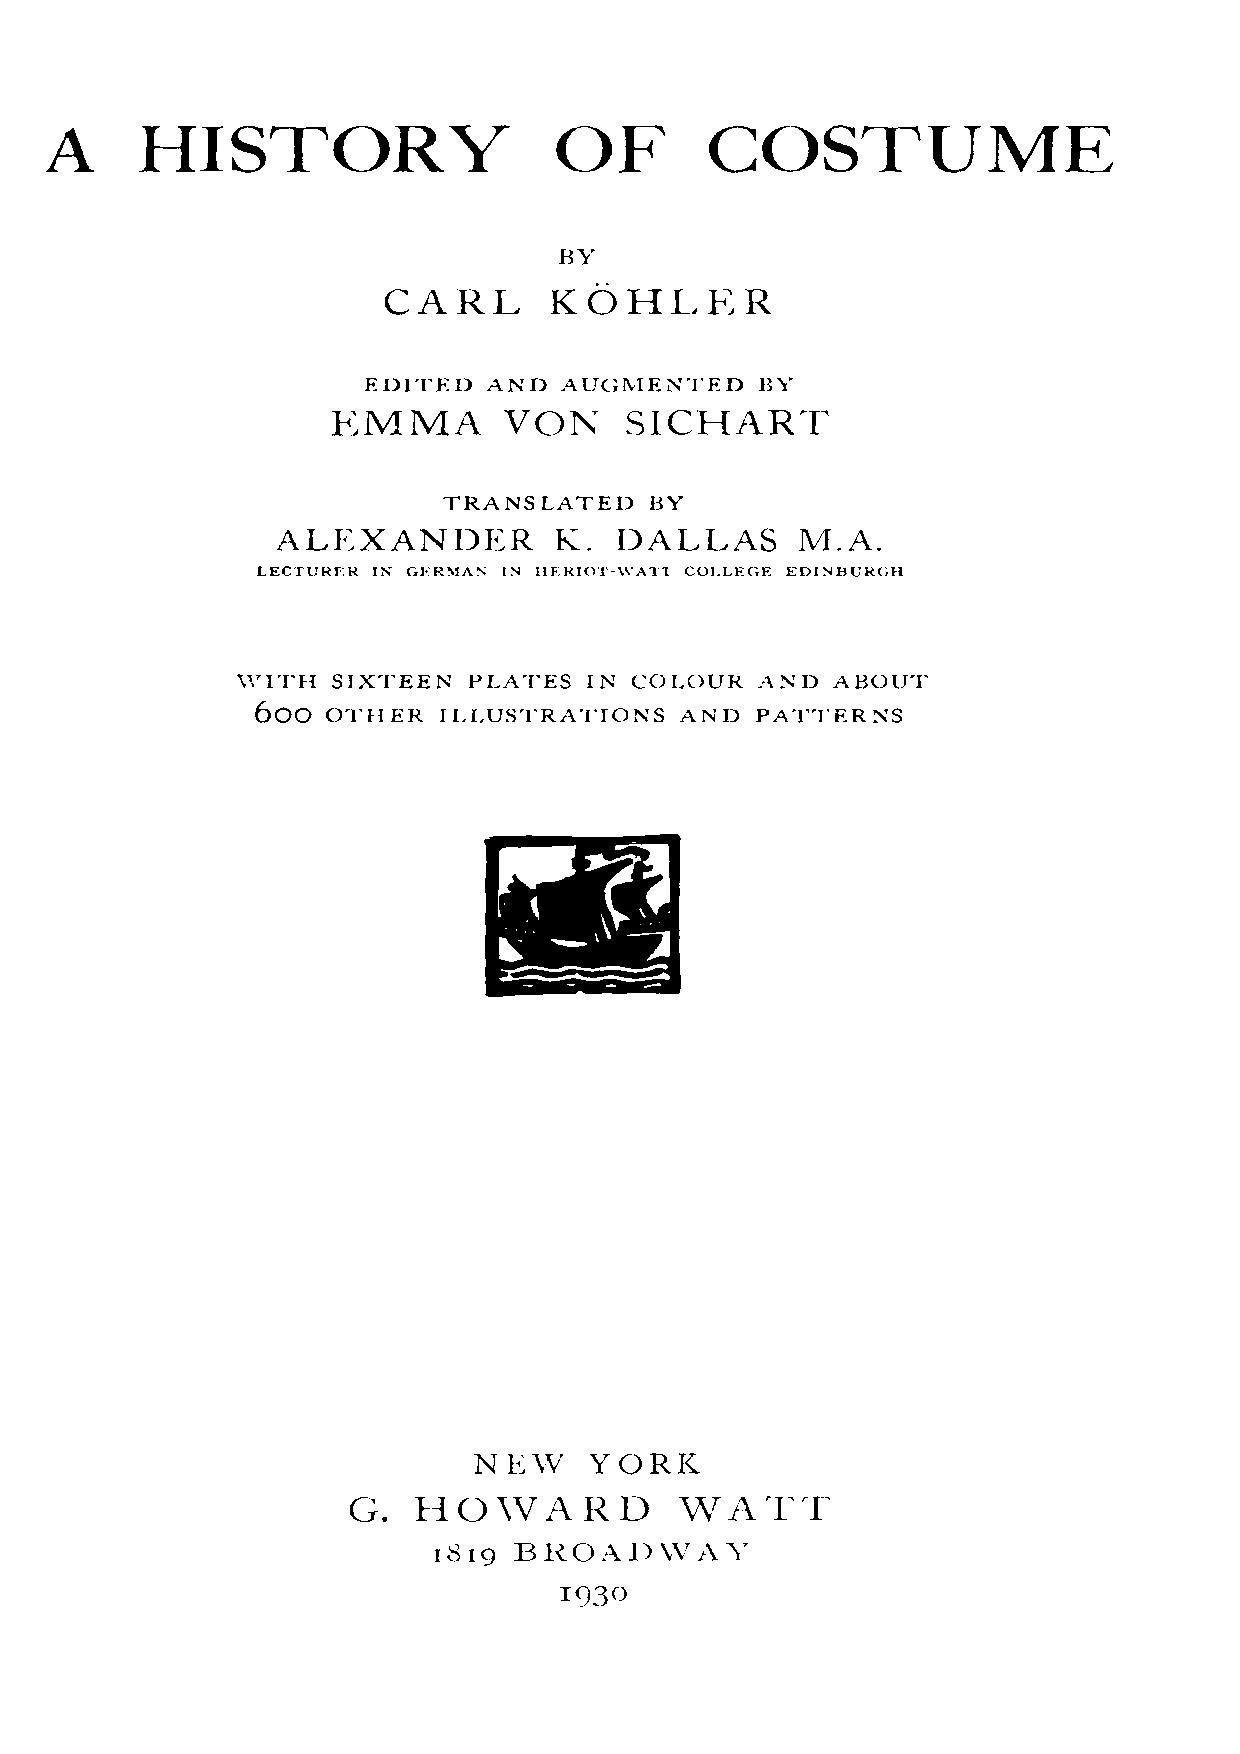author: (378, 247, 770, 319)
title: (39, 122, 1117, 174)
